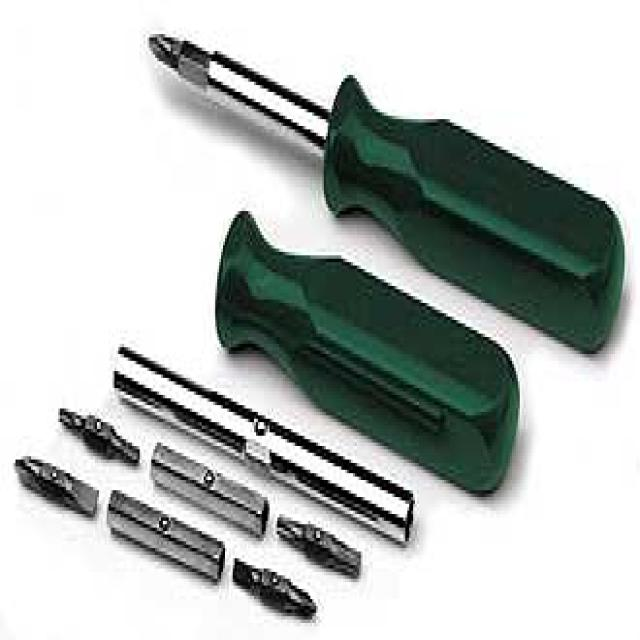screw driver: (143, 0, 611, 283)
